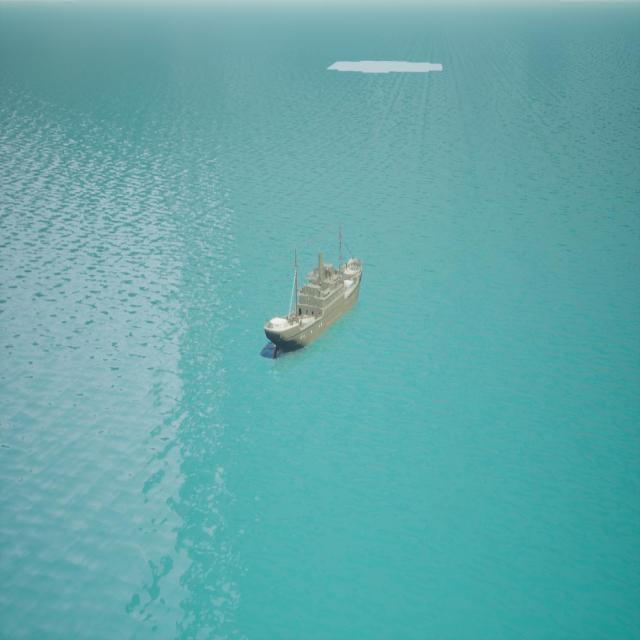fishing ship: (262, 223, 364, 360)
